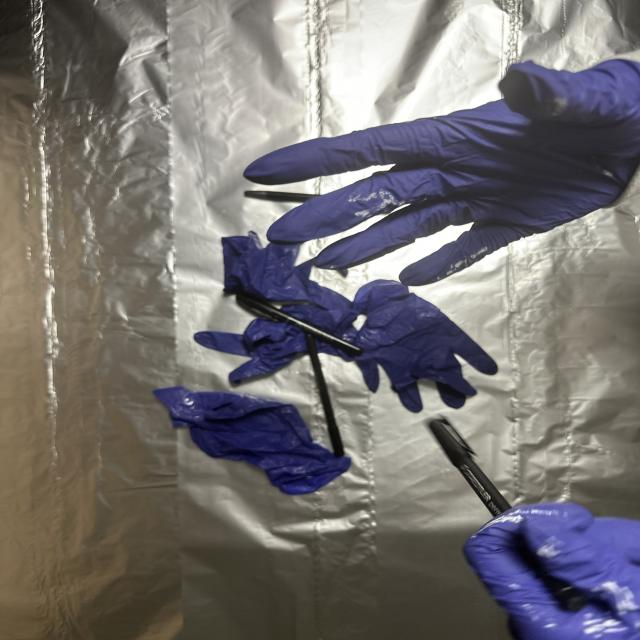gloves_contaminated: (244, 54, 640, 286), (465, 503, 640, 640)
